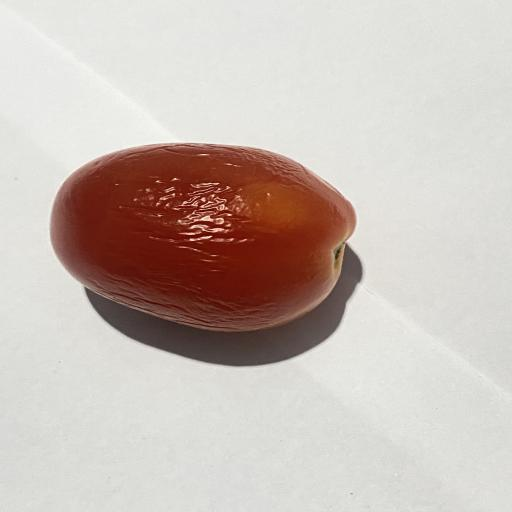spoiled: (51, 143, 356, 331)
